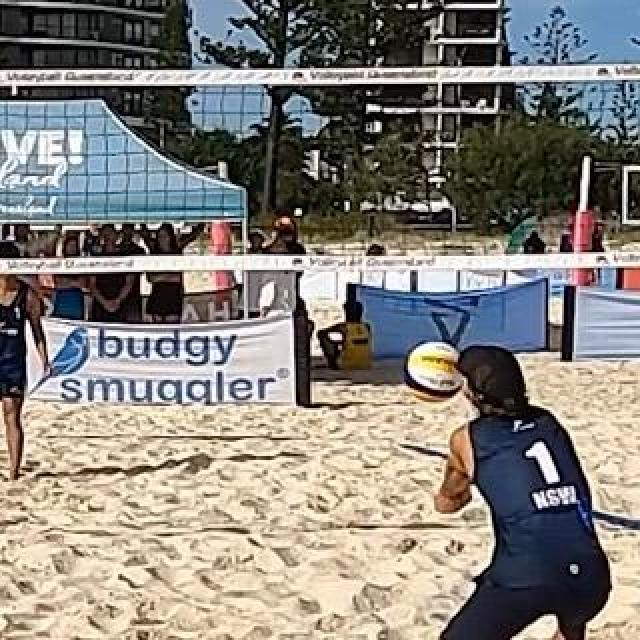volleyball: (405, 341, 461, 401)
